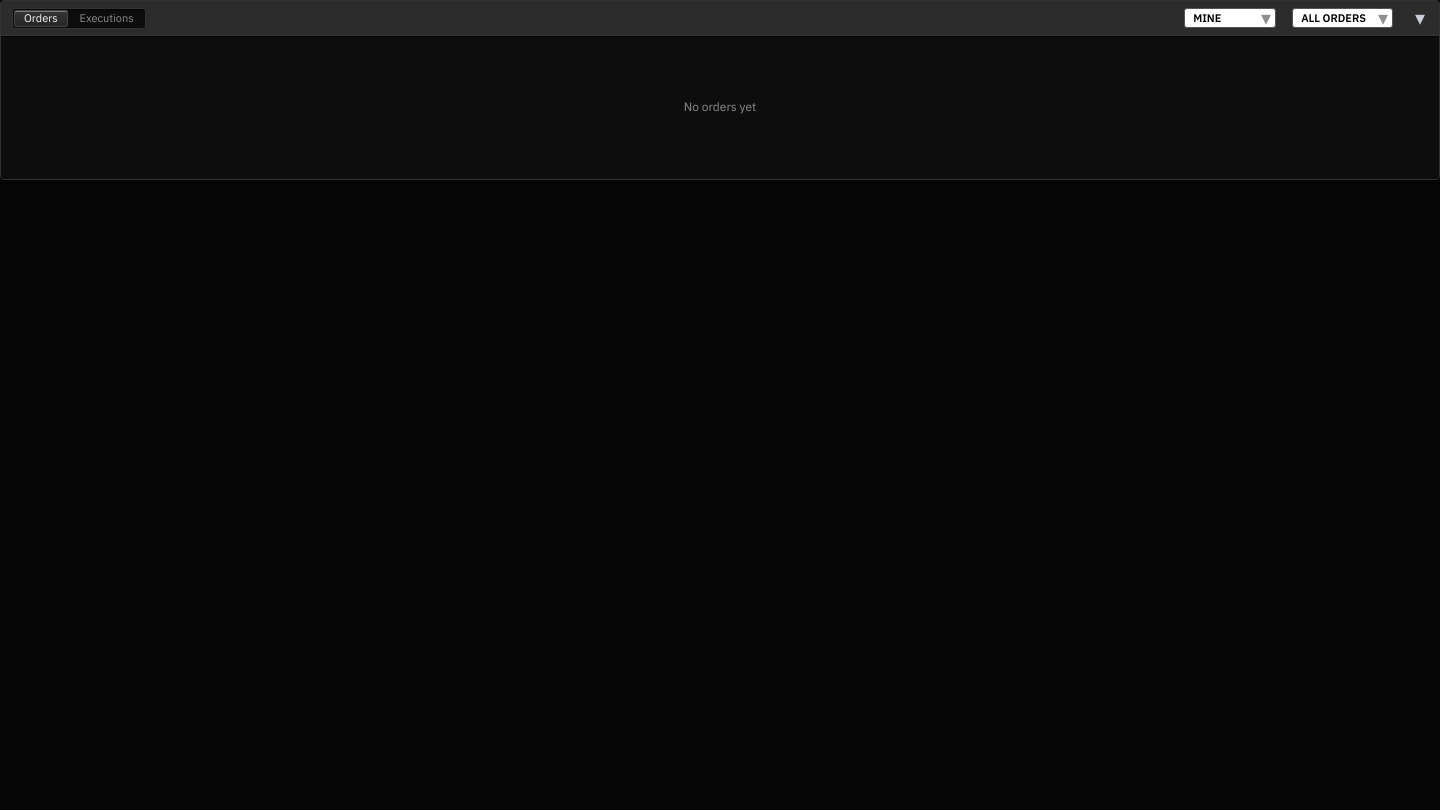
Test: topmost confirmation popups › Cancel by Order ID renders into the body as topmost and refuses an outside click with the alert
This screenshot has width=1440, height=810.
Click the button with test id "blotter-menu-btn" at (1420, 18), box [1409,7,1431,29]
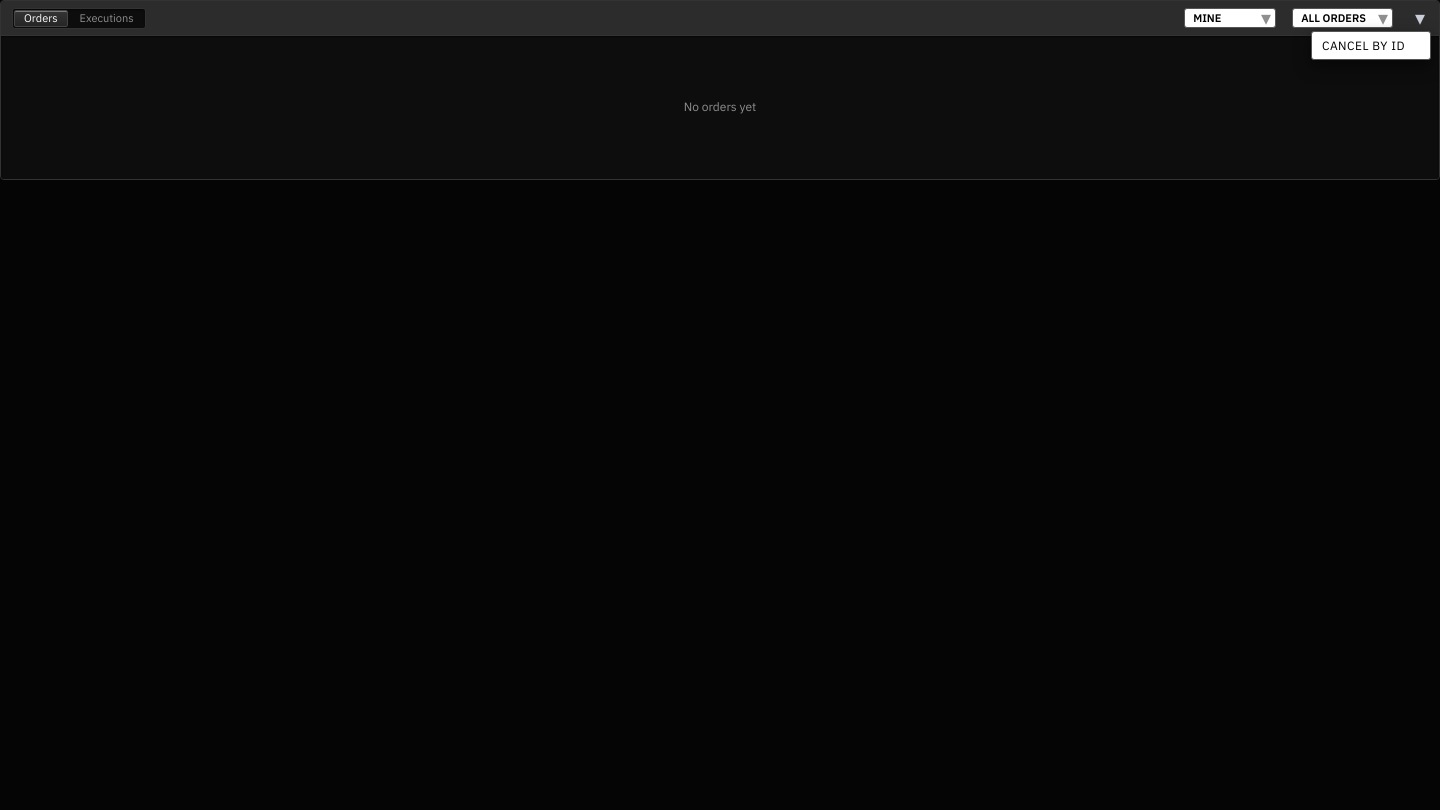
Click the menu item with test id "cancel-by-id-open" at (1371, 46), box [1314,34,1428,57]
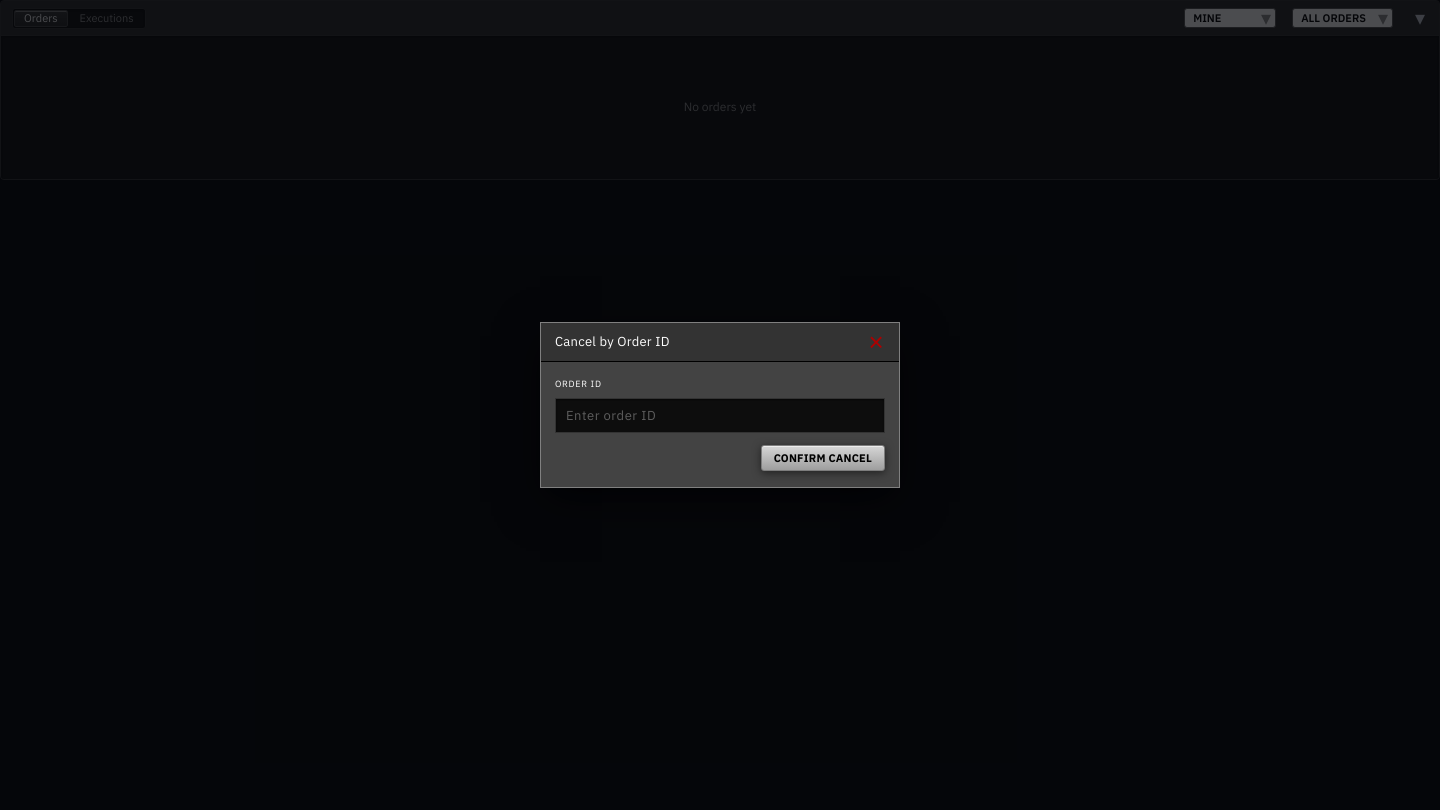
Press the mouse on the element with test id "cancel-by-id-overlay" at (720, 405), box [0,0,1439,809]
Press the mouse on the element with test id "cancel-by-id-overlay" at (720, 405), box [0,0,1439,809]
Result: the element with test id "cancel-by-id-overlay" is shown
Press the mouse on the field with test id "cancel-by-id-input" at (720, 416), box [555,398,885,433]
Press Escape
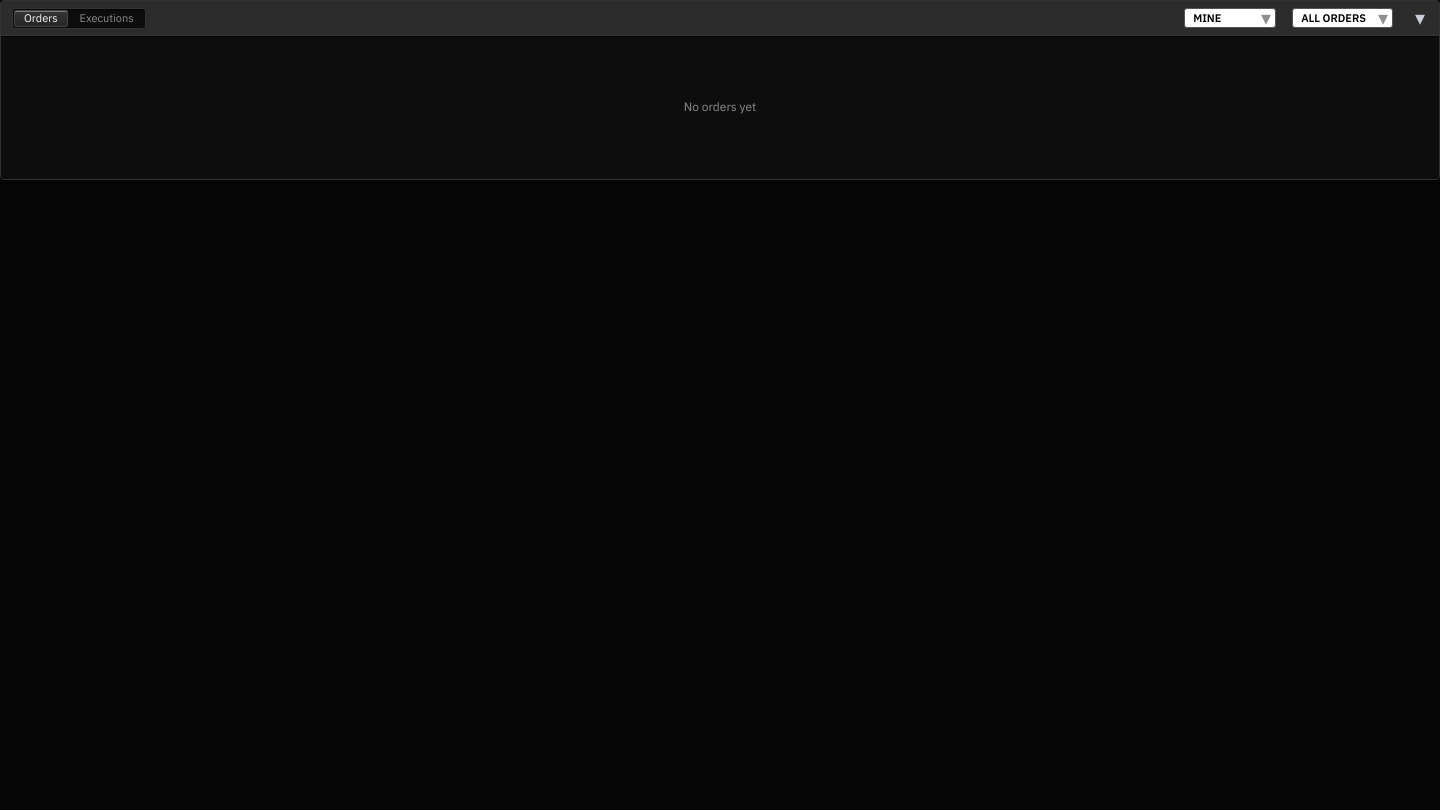
Result: the element with test id "cancel-by-id-overlay" is gone
